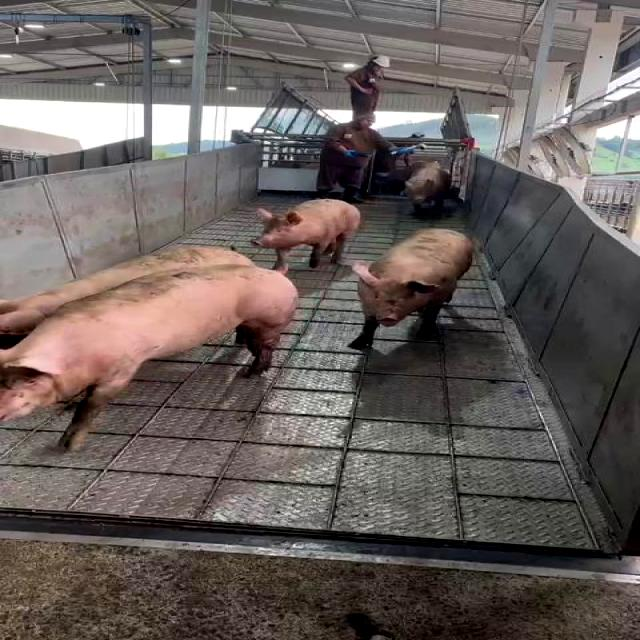pig: (1, 266, 297, 447), (0, 246, 253, 334), (352, 229, 473, 347), (254, 199, 360, 270), (406, 162, 450, 208)
